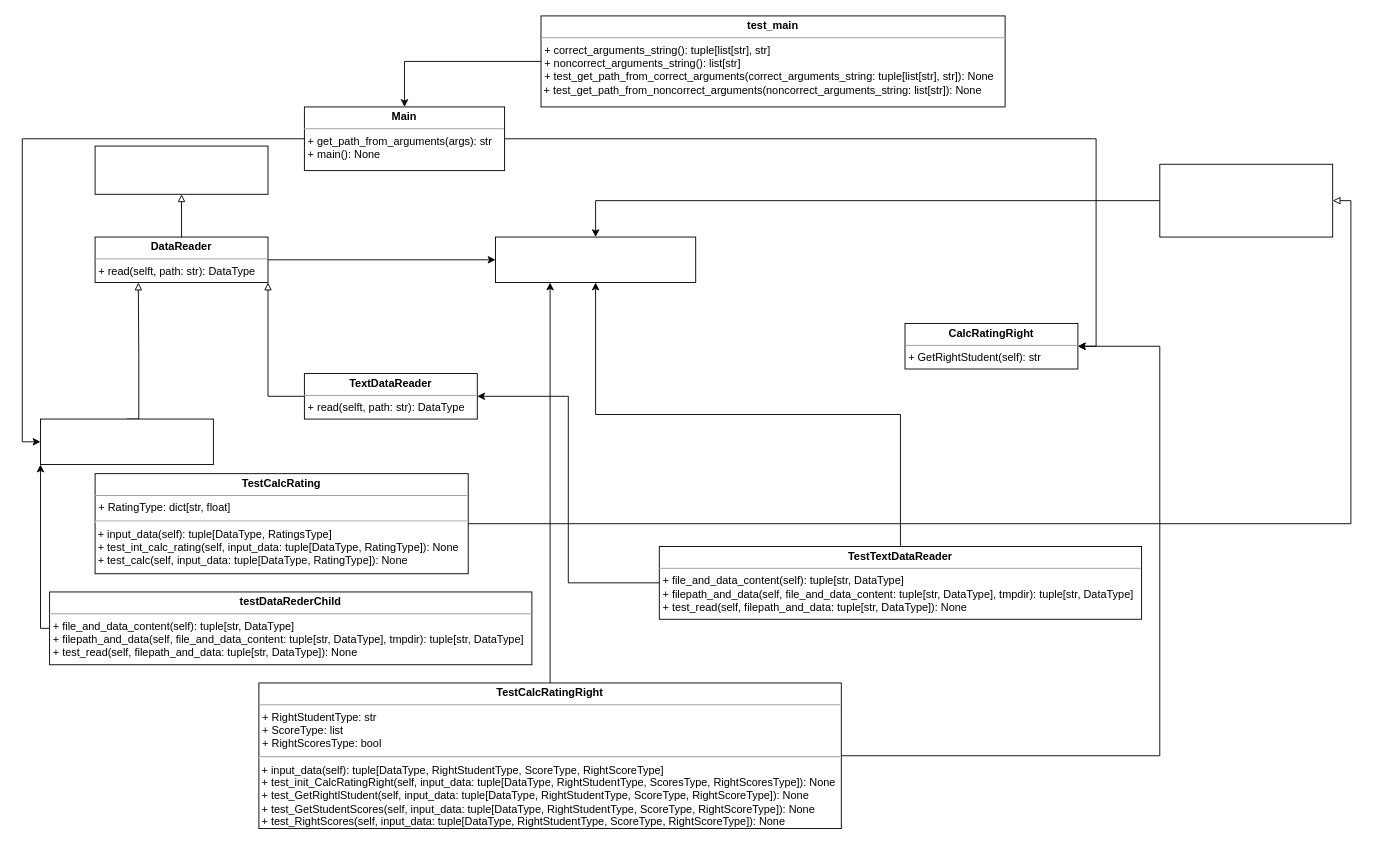
The diagram is 1374 pixels wide and 844 high, and some of its shapes have lost their labels. Each missing label, with the centre of its shape:
ABC: the point at 181,169
CalcRating + RatingType: dict[str, float] + calc(self): RatingType: the point at 1246,200
DataReaderChild + read(selft, path: str): DataType: the point at 126,441
Types + DataType: dict[str, list[tuple[str, int]]]: the point at 595,259
